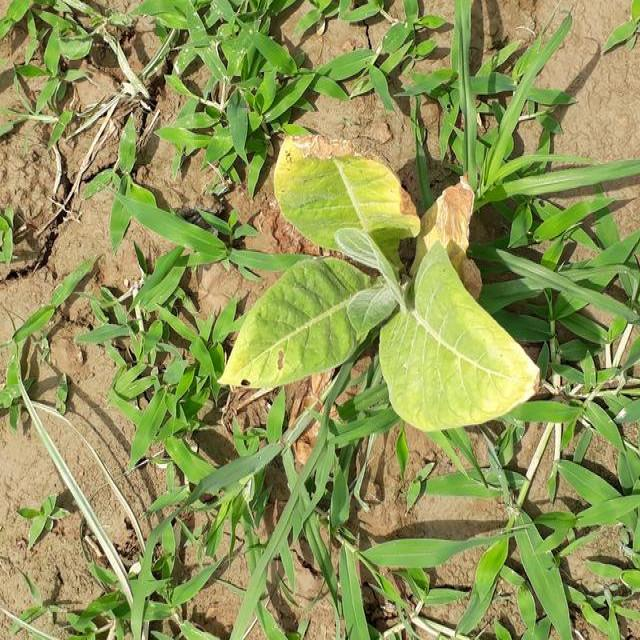crop: (215, 121, 550, 434)
